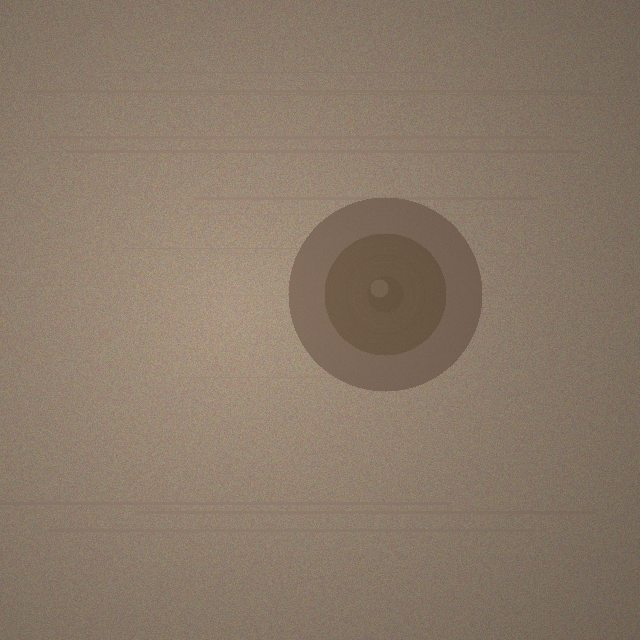good: (288, 197, 482, 391)
